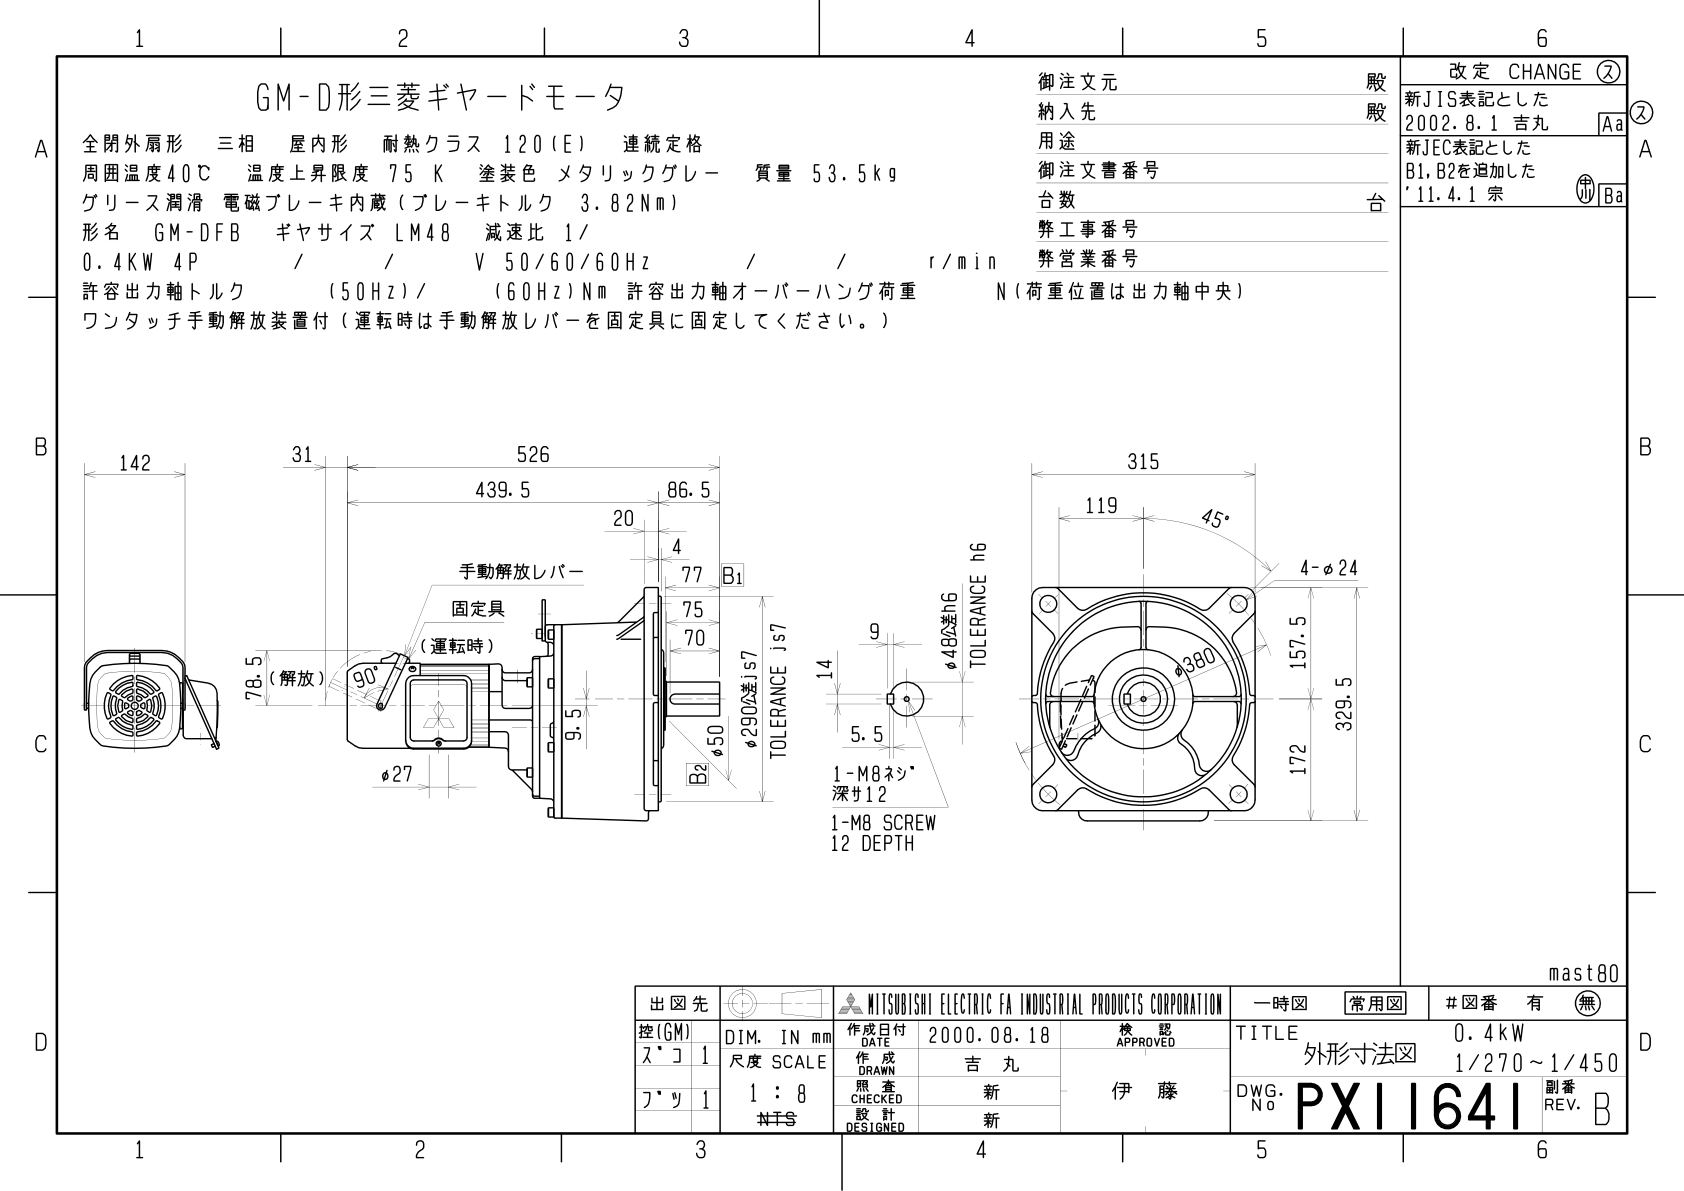GM_D_手動解放ブレーキ＿三相_フランジ: (71, 388, 1392, 914)
